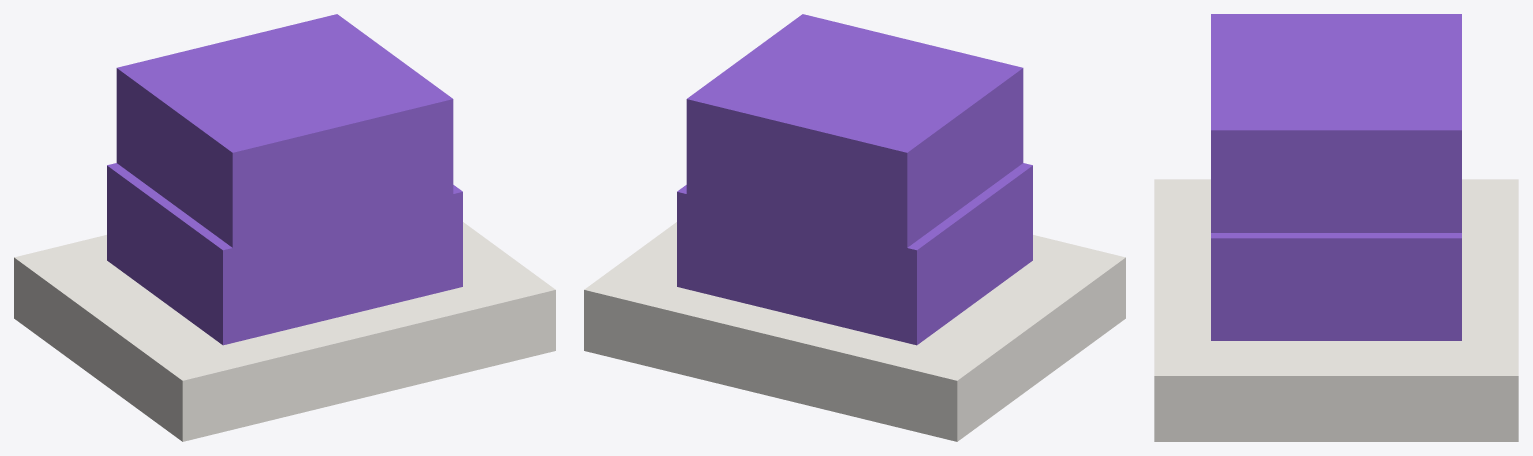
The model's file is art_easel-lv2.glb.
3 renders of one model, left to right at view 1: azimuth 30°, elevation 25°; view 2: azimuth 150°, elevation 25°; view 3: azimuth 270°, elevation 25°, orthographic. The views are drawn at different scales.
Visible parts, largest first — view 1: Level2, Base, Level1; view 2: Level2, Base, Level1; view 3: Base, Level2, Level1.
Boxes of the visible parts, x1,y1,x2,y2 form: Level2: (116, 14, 453, 247); Base: (14, 222, 555, 441); Level1: (107, 163, 462, 345); Level2: (686, 14, 1023, 247); Base: (584, 222, 1125, 441); Level1: (677, 163, 1032, 345); Base: (1154, 179, 1518, 441); Level2: (1211, 14, 1461, 232); Level1: (1211, 233, 1461, 340).
Size of the model in its own units: 1.15 by 0.74 by 0.9.
